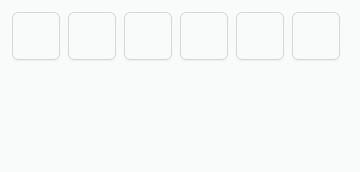
Test: OtpInput › fills all six cells when a code is pasted
This screenshot has width=360, height=172.
Click the field named "Digit 1 of 6" at (36, 36), box 12,12 -> 60,60
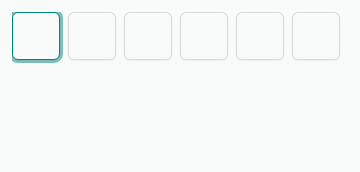
Type keys "123456"
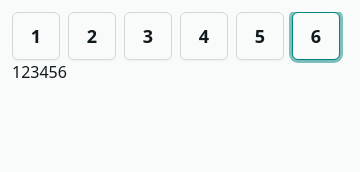
Expected: the text with test id "value" reads "123456", 12,61 -> 67,83
